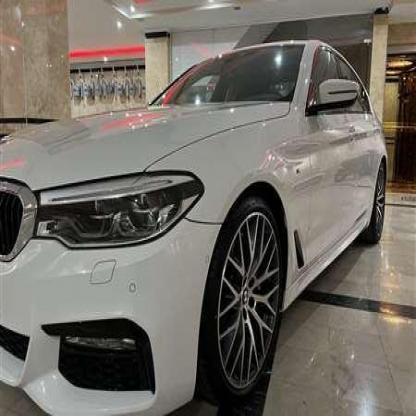Car: (0, 40, 385, 416)
